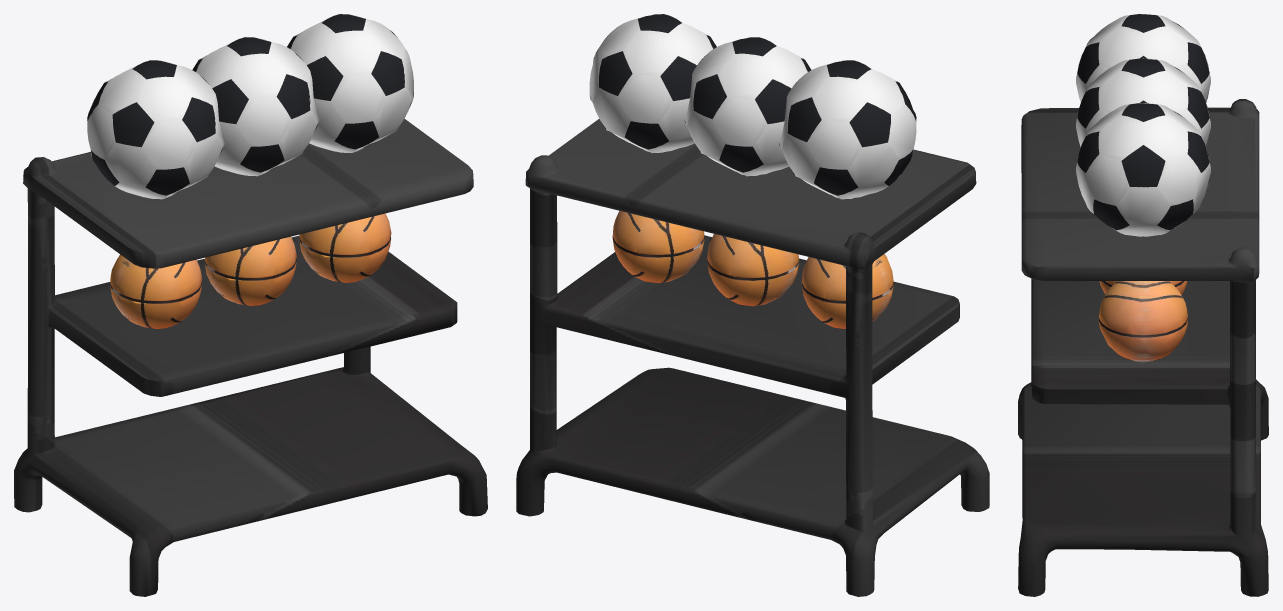
The picture shows the model from 3 angles, left to right: view 1: azimuth 30°, elevation 25°; view 2: azimuth 150°, elevation 25°; view 3: azimuth 270°, elevation 25°; orthographic projection. The views are drawn at different scales.
Visible parts, largest first — view 1: Decor_gym_ball_rack; view 2: Decor_gym_ball_rack; view 3: Decor_gym_ball_rack.
Part boxes in pixels (x1=…): Decor_gym_ball_rack: x1=14, y1=14, x2=487, y2=596; Decor_gym_ball_rack: x1=516, y1=14, x2=989, y2=596; Decor_gym_ball_rack: x1=1018, y1=14, x2=1268, y2=596.
Size of the model in its own units: 1.05 by 1.32 by 0.668.
4 materials, 4 textured.
